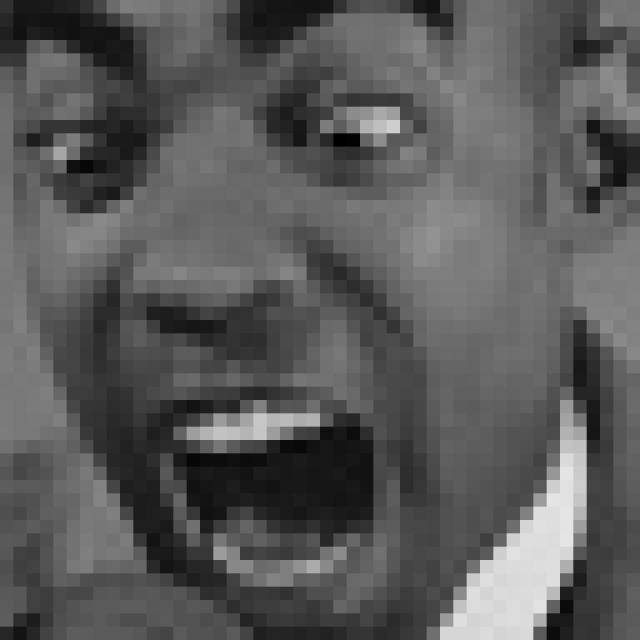angry: (0, 1, 462, 605)
